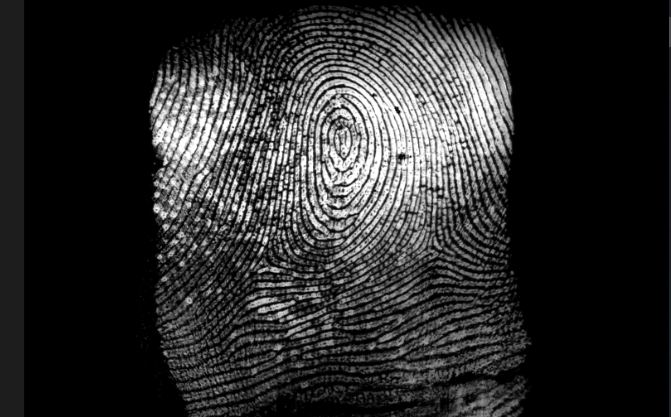deltas: (235, 234, 295, 293), (405, 220, 455, 271)
nucleo: (314, 107, 369, 169)
